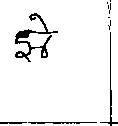e_matra: (29, 12, 58, 31)
